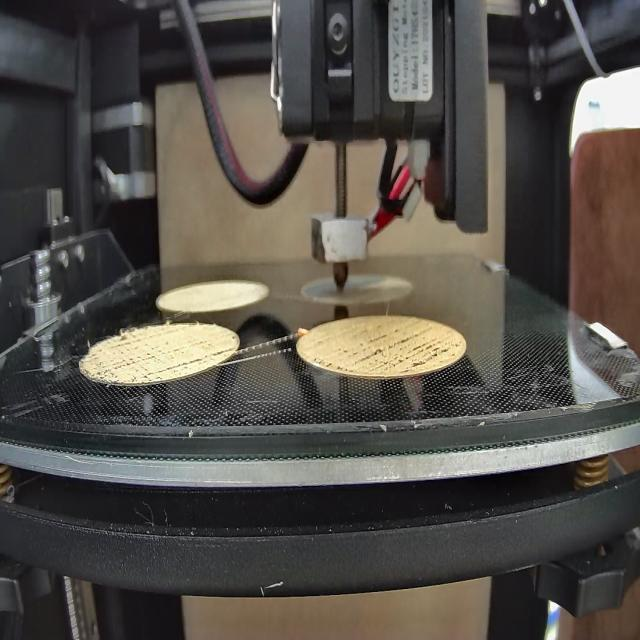under_extrusion: (312, 331, 461, 376), (92, 329, 173, 380), (175, 340, 232, 366)
